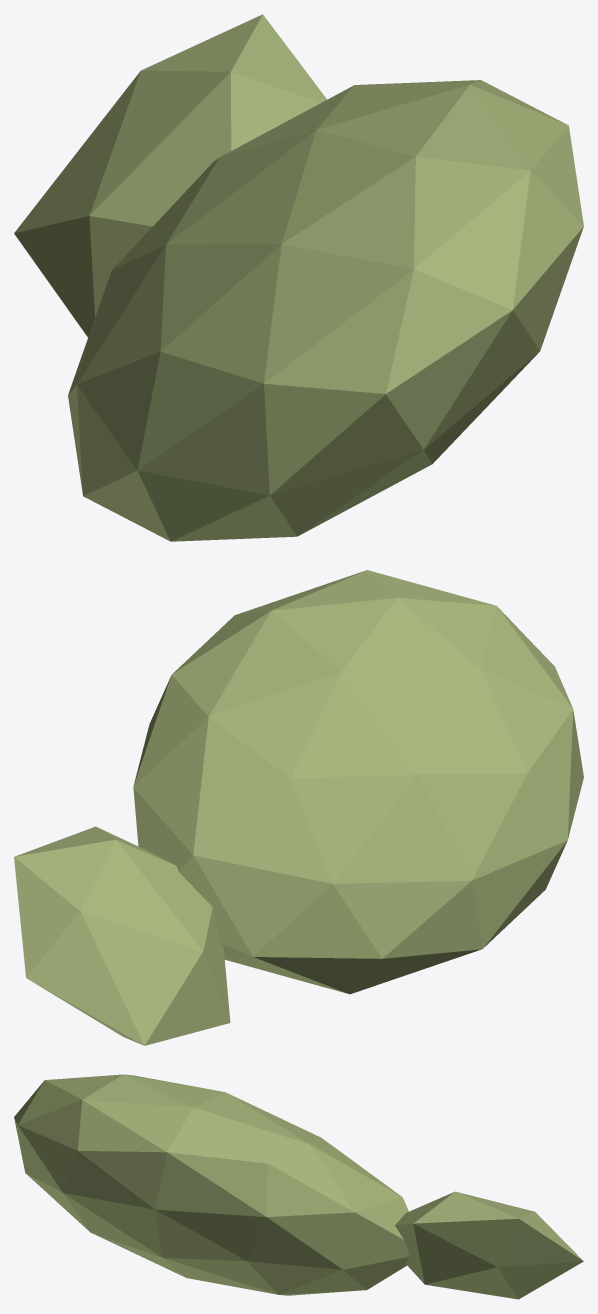
File: RoundedCactus_2.fbx
3 views of the same model, one above another, from view 1: azimuth 30°, elevation 25°; view 2: azimuth 150°, elevation 25°; view 3: azimuth 270°, elevation 25° (orthographic). The views are drawn at different scales.
Parts seen in each view (by area): view 1: RoundedCactus_2; view 2: RoundedCactus_2; view 3: RoundedCactus_2.
Boxes of the visible parts, x1=… form: RoundedCactus_2: x1=14, y1=14, x2=583, y2=541; RoundedCactus_2: x1=14, y1=570, x2=583, y2=1045; RoundedCactus_2: x1=14, y1=1074, x2=583, y2=1299.
Size of the model in its own units: 78.09 by 62.59 by 140.
